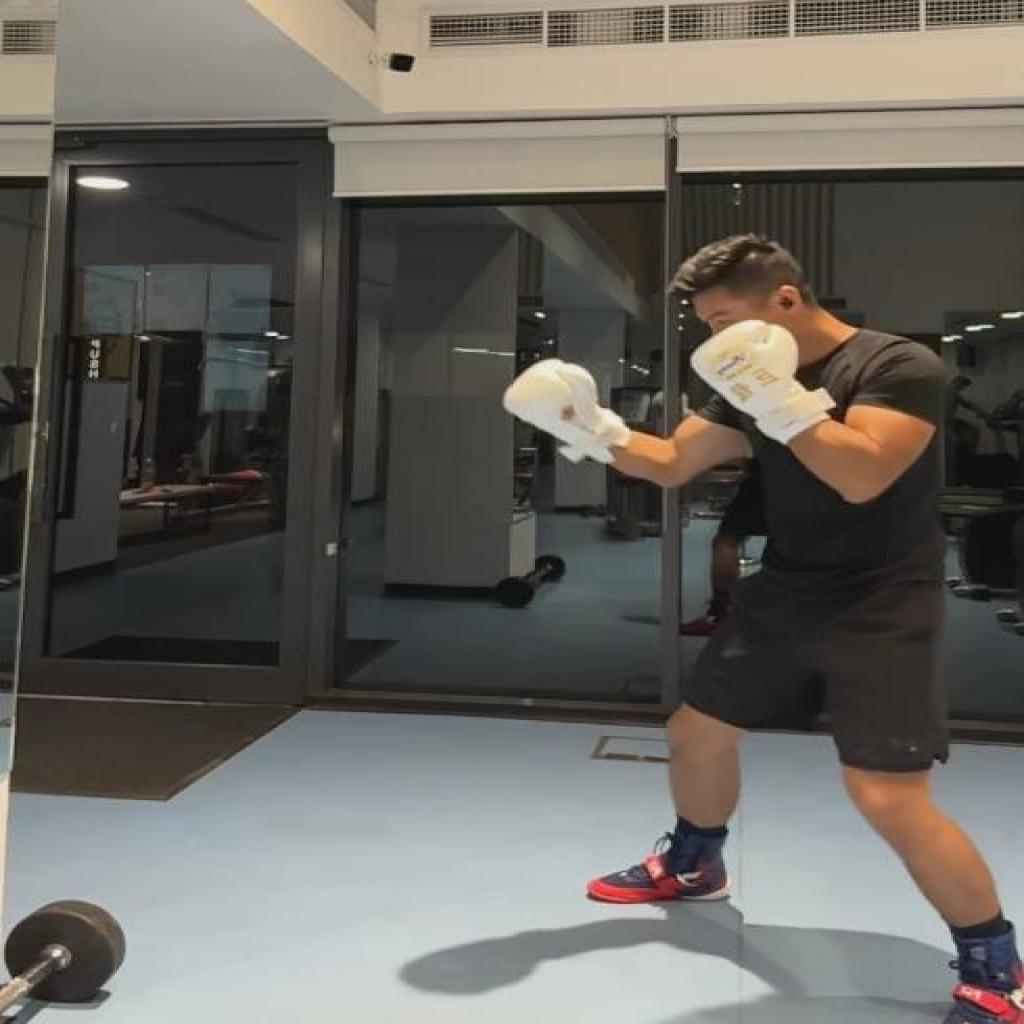uppercut: (499, 233, 1023, 1024)
